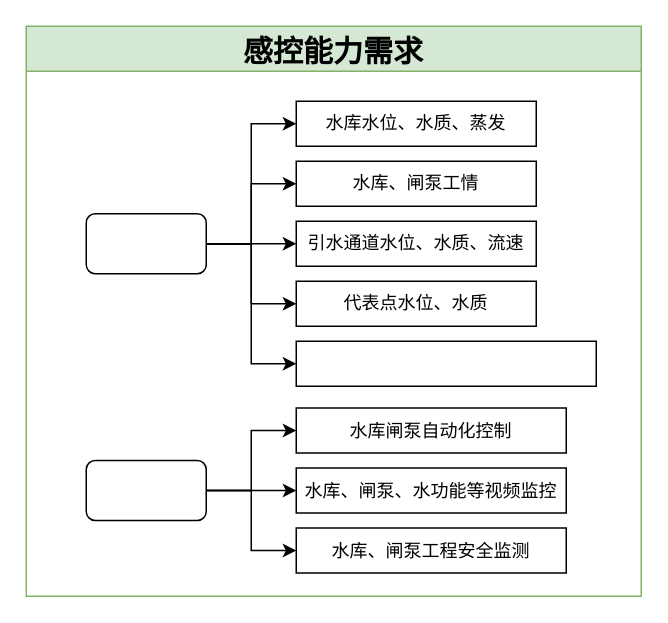
The diagram is 668 pixels wide and 623 high, and some of its shapes have lost their labels. The centre of each missing label's shape, as x and y in pixels:
"引水" belongs at (145,243).
"水功能区及国考、省考水质断面水质" belongs at (445,363).
"管理" belongs at (145,489).
